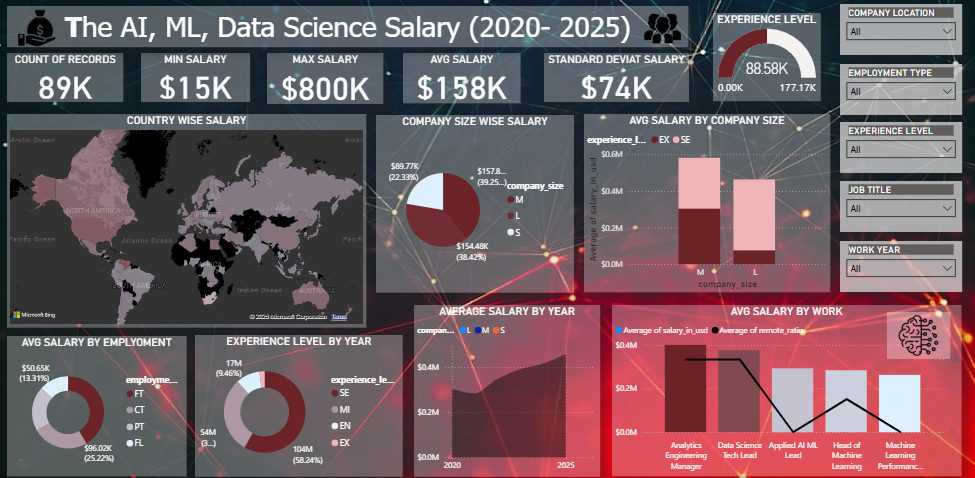

The dashboard page shown, as its layout file describes it:
{"tool":"powerbi","page":{"name":"Page 1","canvas":[1500,750],"ordinal":0},"visuals":[{"type":"card","title":"COUNT OF RECORDS","fields":{"Values":["Count(Sheet1.Index)"]},"box":[13.3,86.7,178.3,75],"z":0},{"type":"card","title":"AVG SALARY","fields":{"Values":["Avg(Sheet1.salary_in_usd)"]},"box":[620,86.7,180,76.7],"z":1000},{"type":"card","title":"MIN SALARY","fields":{"Values":["Min(Sheet1.salary_in_usd)"]},"box":[218.3,86.7,166.7,75],"z":2000},{"type":"card","title":"MAX SALARY","fields":{"Values":["Max(Sheet1.salary_in_usd)"]},"box":[411.7,86.7,178.3,78.3],"z":3000},{"type":"card","title":"STANDARD DEVIAT SALARY","fields":{"Values":["Sum(Sheet1.salary_in_usd)"]},"box":[835,86.7,221.7,75],"z":4000},{"type":"filledMap","title":"COUNTRY WISE SALARY","fields":{"Category":["Sheet1.company_location"]},"box":[13.3,180,550,326.7],"z":5000},{"type":"pieChart","title":"COMPANY SIZE WISE SALARY","fields":{"Category":["Sheet1.company_size"],"Y":["Avg(Sheet1.salary_in_usd)"]},"box":[578.3,181.7,303.3,271.7],"z":6000},{"type":"donutChart","title":"AVG SALARY BY EMPLYOMENT","fields":{"Y":["Avg(Sheet1.salary_in_usd)"],"Category":["Sheet1.employment_type"]},"box":[13.3,520,275,215],"z":7000},{"type":"stackedAreaChart","title":"AVERAGE SALARY BY YEAR","fields":{"Category":["Sheet1.work_year"],"Y":["Avg(Sheet1.salary_in_usd)"],"Series":["Sheet1.company_size"]},"box":[636.7,473.3,285,263.3],"z":8000},{"type":"lineClusteredColumnComboChart","title":"AVG SALARY BY WORK","fields":{"Category":["Sheet1.job_title"],"Y":["Avg(Sheet1.salary_in_usd)"],"Y2":["Avg(Sheet1.remote_ratio)"]},"box":[940,473.3,535,261.7],"z":9000},{"type":"columnChart","title":"AVG SALARY BY COMPANY SIZE","fields":{"Category":["Sheet1.company_size"],"Y":["Avg(Sheet1.salary_in_usd)"],"Series":["Sheet1.experience_level"]},"box":[896.7,180,376.7,273.3],"z":10000},{"type":"gauge","title":"EXPERIENCE LEVEL","fields":{"Y":["CountNonNull(Sheet1.experience_level)"]},"box":[1095,26.7,165,135],"z":11000},{"type":"textbox","box":[13.3,15,1043.3,63.3],"z":12000},{"type":"donutChart","title":"EXPERIENCE LEVEL BY YEAR","fields":{"Y":["Sum(Sheet1.work_year)"],"Category":["Sheet1.experience_level"]},"box":[301.7,518.3,318.3,216.7],"z":13000},{"type":"image","box":[1360,483.3,96.7,71.7],"z":14000},{"type":"image","box":[0,15,118.3,66.7],"z":15000},{"type":"image","box":[940,11.7,155,75],"z":16000},{"type":"slicer","fields":{"Values":["Sheet1.company_location"]},"box":[1288.3,11.7,186.7,78.3],"z":17000},{"type":"slicer","fields":{"Values":["Sheet1.employment_type"]},"box":[1288.3,103.3,186.7,78.3],"z":18000},{"type":"slicer","fields":{"Values":["Sheet1.experience_level"]},"box":[1288.3,193.3,186.7,78.3],"z":19000},{"type":"slicer","fields":{"Values":["Sheet1.job_title"]},"box":[1288.3,283.3,186.7,78.3],"z":20000},{"type":"slicer","fields":{"Values":["Sheet1.work_year"]},"box":[1288.3,375,186.7,78.3],"z":21000}]}

Visuals, with their boxes in screenshot pixels (x1, y1, x2, y2), scaled from the page's 1500x750 canvas onto the 975x478 screenshot:
"COUNT OF RECORDS" card: [left=9, top=55, right=125, bottom=103]
"AVG SALARY" card: [left=403, top=55, right=520, bottom=104]
"MIN SALARY" card: [left=142, top=55, right=250, bottom=103]
"MAX SALARY" card: [left=268, top=55, right=384, bottom=105]
"STANDARD DEVIAT SALARY" card: [left=543, top=55, right=687, bottom=103]
"COUNTRY WISE SALARY" filledMap: [left=9, top=115, right=366, bottom=323]
"COMPANY SIZE WISE SALARY" pieChart: [left=376, top=116, right=573, bottom=289]
"AVG SALARY BY EMPLYOMENT" donutChart: [left=9, top=331, right=187, bottom=468]
"AVERAGE SALARY BY YEAR" stackedAreaChart: [left=414, top=302, right=599, bottom=469]
"AVG SALARY BY WORK" lineClusteredColumnComboChart: [left=611, top=302, right=959, bottom=468]
"AVG SALARY BY COMPANY SIZE" columnChart: [left=583, top=115, right=828, bottom=289]
"EXPERIENCE LEVEL" gauge: [left=712, top=17, right=819, bottom=103]
textbox: [left=9, top=10, right=687, bottom=50]
"EXPERIENCE LEVEL BY YEAR" donutChart: [left=196, top=330, right=403, bottom=468]
image: [left=884, top=308, right=947, bottom=354]
image: [left=0, top=10, right=77, bottom=52]
image: [left=611, top=7, right=712, bottom=55]
slicer - Sheet1.company_location: [left=837, top=7, right=959, bottom=57]
slicer - Sheet1.employment_type: [left=837, top=66, right=959, bottom=116]
slicer - Sheet1.experience_level: [left=837, top=123, right=959, bottom=173]
slicer - Sheet1.job_title: [left=837, top=181, right=959, bottom=230]
slicer - Sheet1.work_year: [left=837, top=239, right=959, bottom=289]
